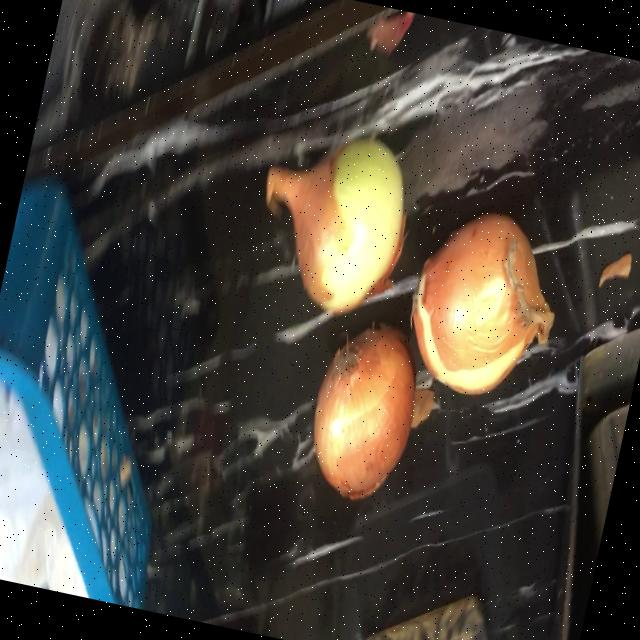Onion: (411, 212, 554, 393), (265, 138, 404, 312), (313, 324, 414, 498)
